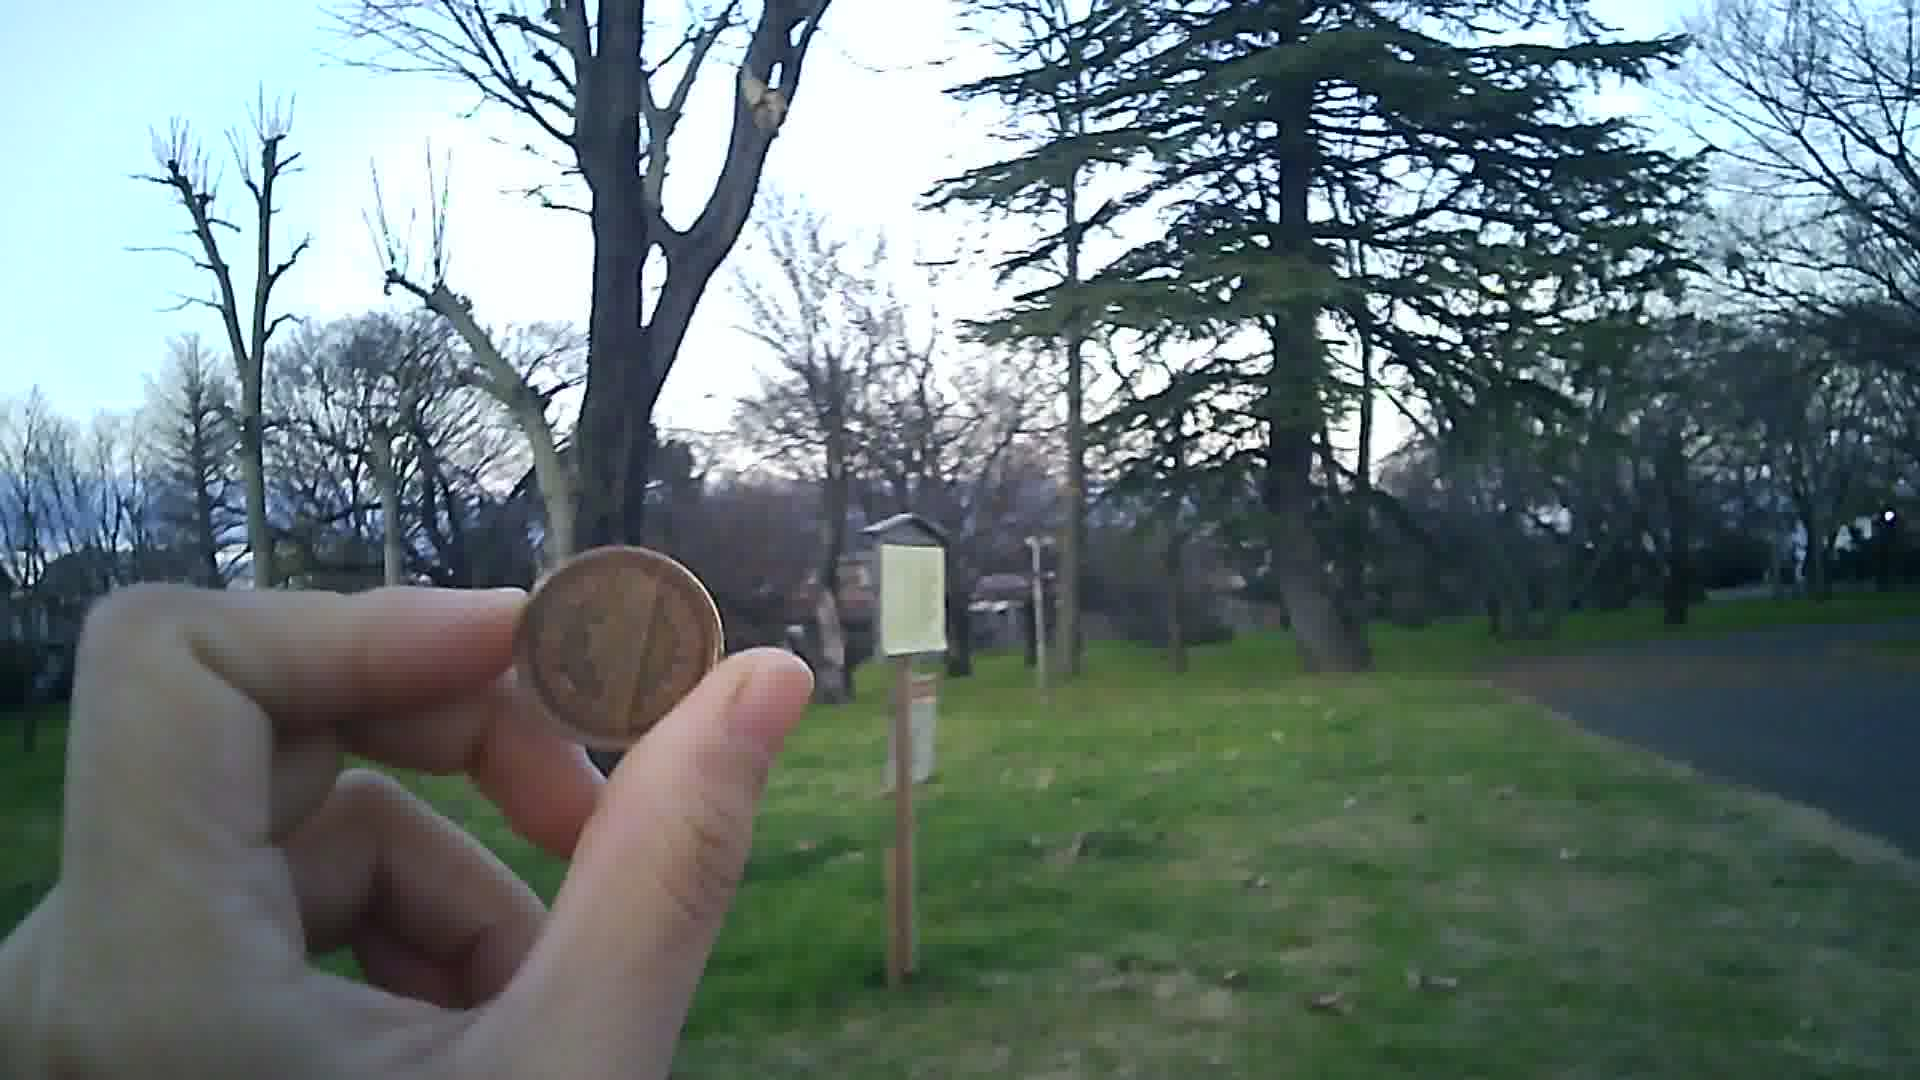10 Yen: (512, 543, 724, 746)
